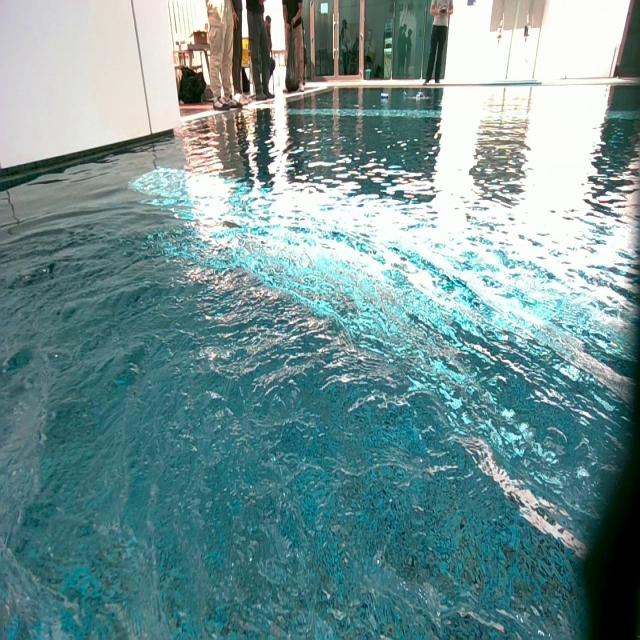Cans: (416, 91, 426, 100), (381, 94, 389, 104), (402, 91, 408, 99)
